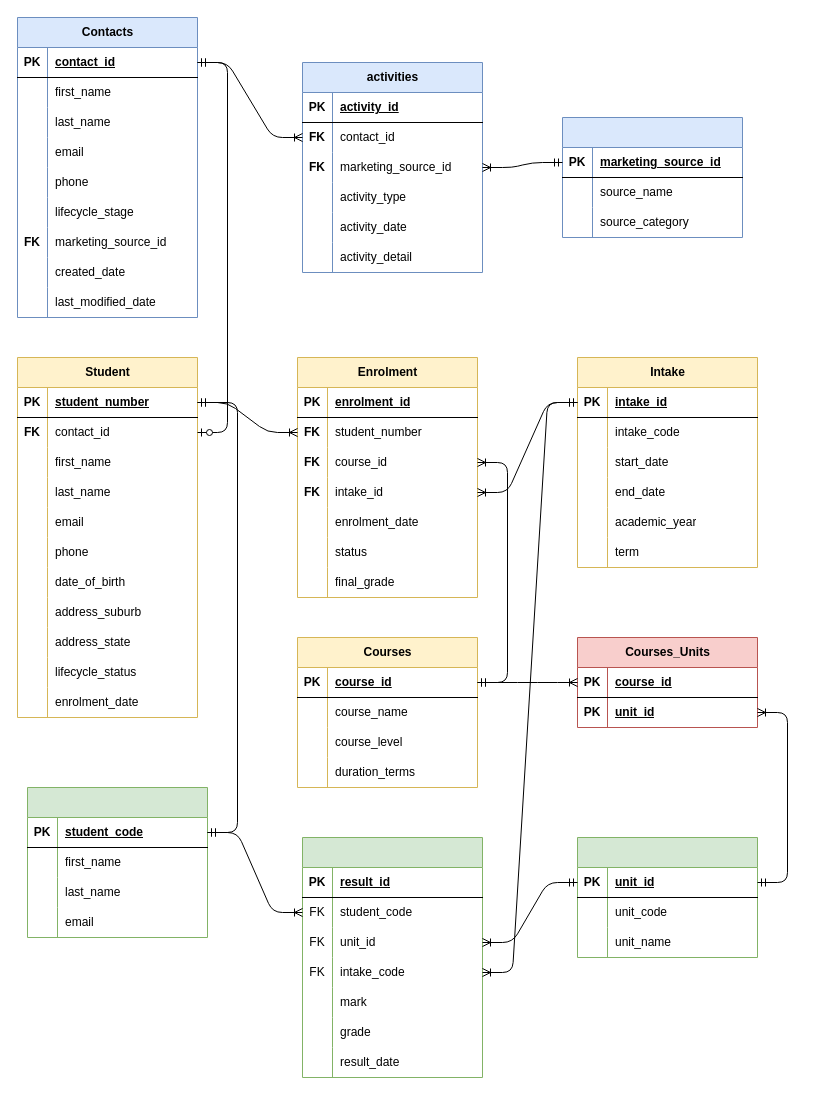
Image size: 814x1095. Some labels were removed from this diagram. The box of each missing label's shape, as (x1, y1, x2, y2) in pixels:
Marketing_sources: (562, 116, 742, 238)
results: (302, 836, 482, 1078)
Student-Paradigm: (26, 786, 208, 938)
Units: (576, 836, 758, 958)
